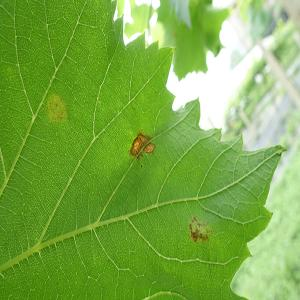Folha: (0, 0, 286, 299)
Fungo: (129, 131, 155, 160), (46, 92, 68, 124), (188, 215, 212, 243), (188, 216, 199, 242)
